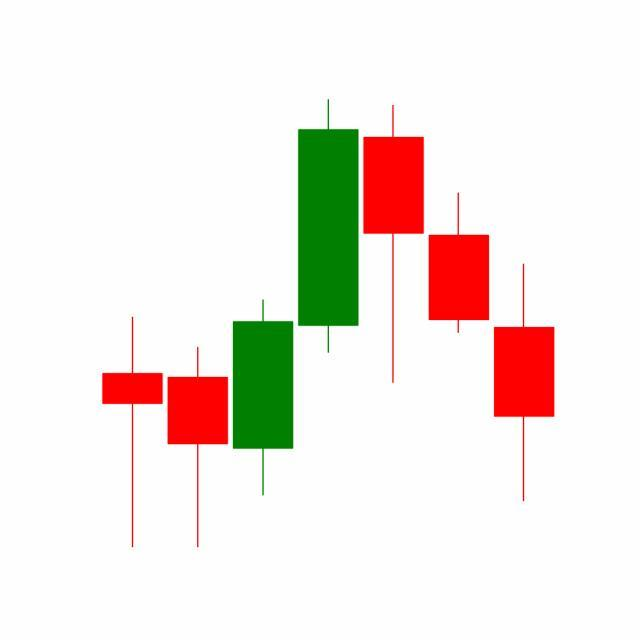Hikkake Pattern: (229, 99, 555, 507)
